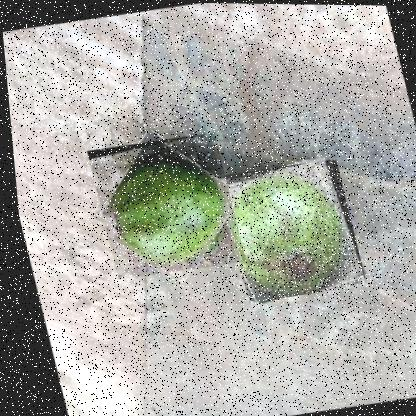guava: (80, 128, 241, 280), (209, 154, 362, 302)
